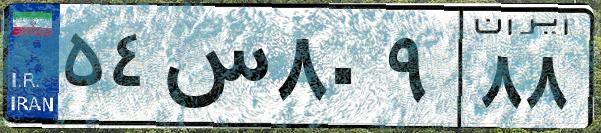0: (330, 28, 385, 110)
4: (110, 28, 158, 98)
5: (57, 26, 110, 100)
8: (270, 28, 330, 110), (475, 38, 525, 113), (525, 38, 570, 115)
9: (385, 28, 445, 110)
س: (158, 20, 270, 120)
